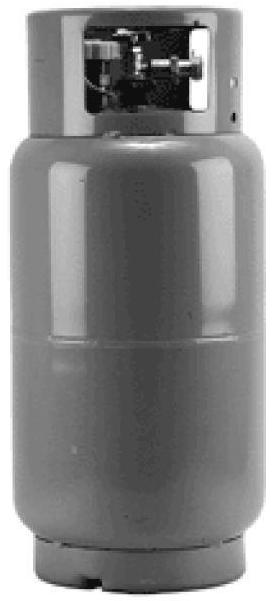cylinder: (1, 0, 278, 601)
